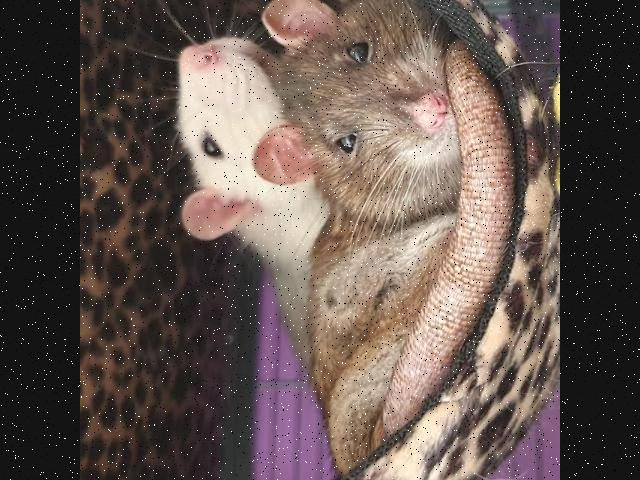Tikus: (255, 0, 444, 453), (170, 0, 263, 248)
